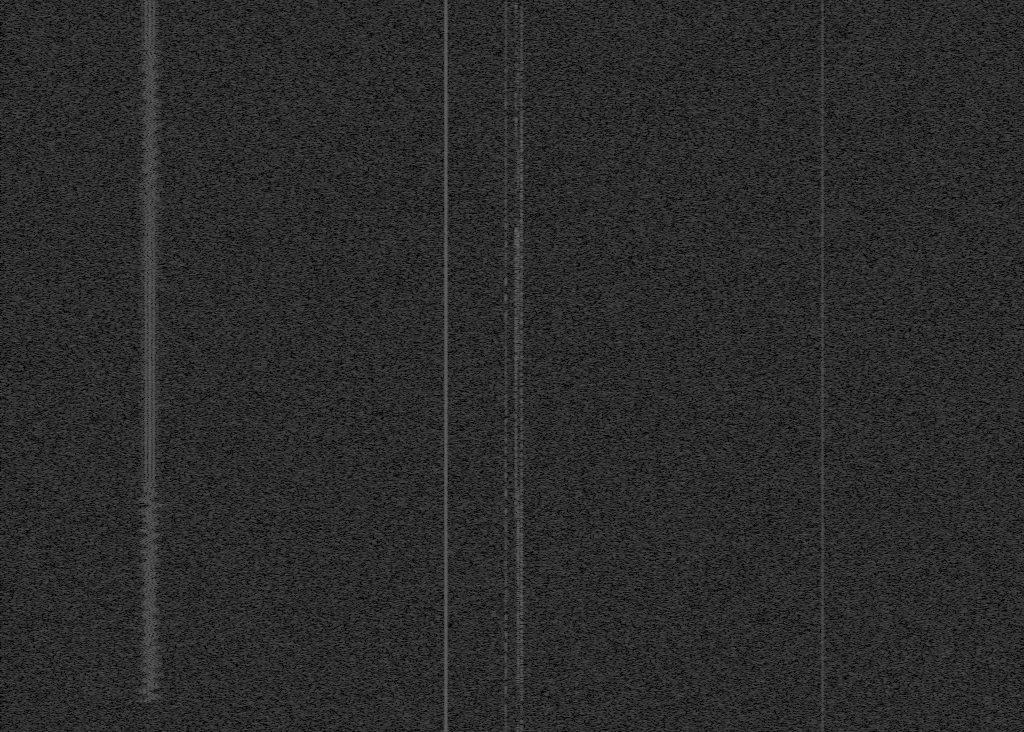wv_am: (503, 0, 508, 215), (503, 504, 508, 612), (503, 309, 508, 417), (503, 641, 508, 732), (503, 446, 508, 502), (503, 252, 508, 288), (503, 613, 508, 629), (503, 418, 508, 434), (503, 292, 508, 307), (503, 216, 508, 230), (503, 435, 508, 444), (503, 239, 508, 248), (503, 631, 508, 639), (503, 232, 508, 238)
wv_cw: (443, 0, 449, 732), (820, 0, 825, 732)
wv_lsb: (513, 308, 519, 531), (513, 226, 519, 307), (513, 85, 519, 146), (513, 2, 519, 33), (514, 183, 518, 225), (514, 34, 518, 74), (514, 147, 518, 163), (514, 587, 518, 601), (514, 569, 518, 581), (514, 172, 518, 182), (514, 75, 518, 84), (514, 532, 518, 540), (514, 164, 518, 171), (514, 543, 518, 549), (514, 556, 518, 560), (514, 551, 518, 555), (514, 561, 518, 565), (514, 606, 518, 609), (514, 583, 518, 586)
wv_usb: (519, 450, 524, 732), (519, 183, 524, 449), (515, 486, 521, 687), (519, 5, 524, 182), (515, 305, 521, 390), (515, 224, 521, 304), (515, 688, 521, 732), (515, 147, 521, 190), (515, 61, 521, 93), (516, 44, 521, 60), (517, 214, 520, 223), (517, 201, 520, 209), (516, 37, 520, 43), (517, 391, 520, 395), (517, 418, 520, 421)
wv_wbfm: (128, 0, 170, 702)
